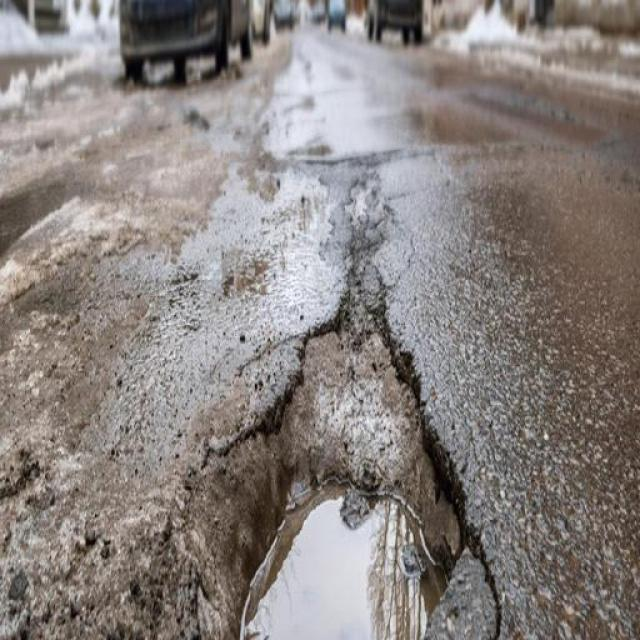puddle: (226, 468, 463, 640), (313, 84, 601, 161)
